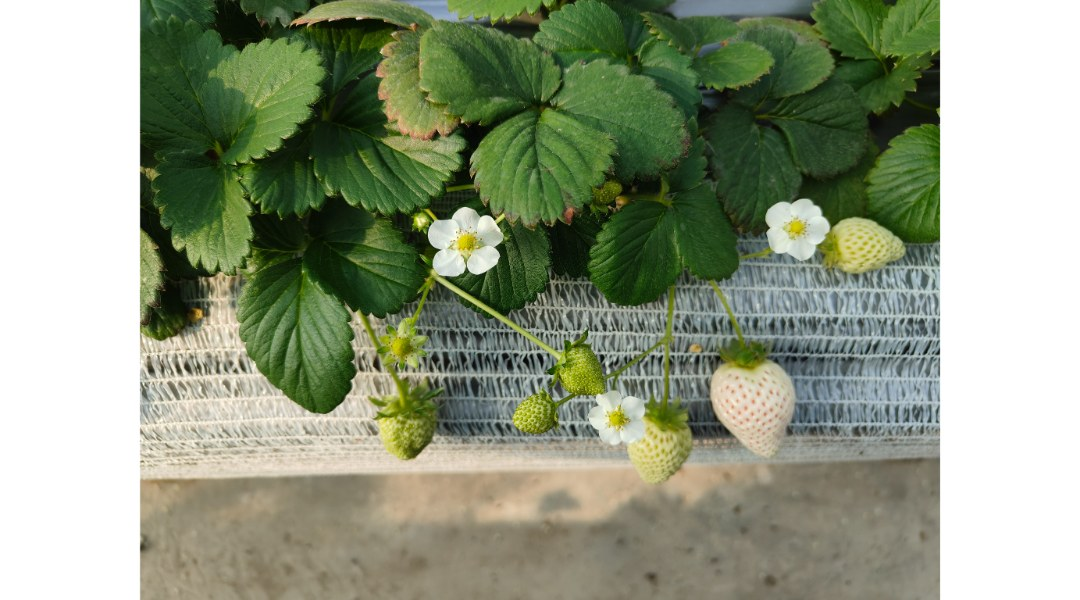berry: (703, 337, 818, 470), (366, 378, 451, 460), (632, 398, 702, 489), (818, 215, 910, 279), (545, 331, 609, 396), (382, 317, 428, 374), (515, 393, 557, 444)
flower: (424, 210, 506, 281), (757, 192, 828, 266), (585, 386, 651, 449)
strain: (459, 293, 552, 355), (708, 286, 749, 336), (664, 285, 678, 398)
